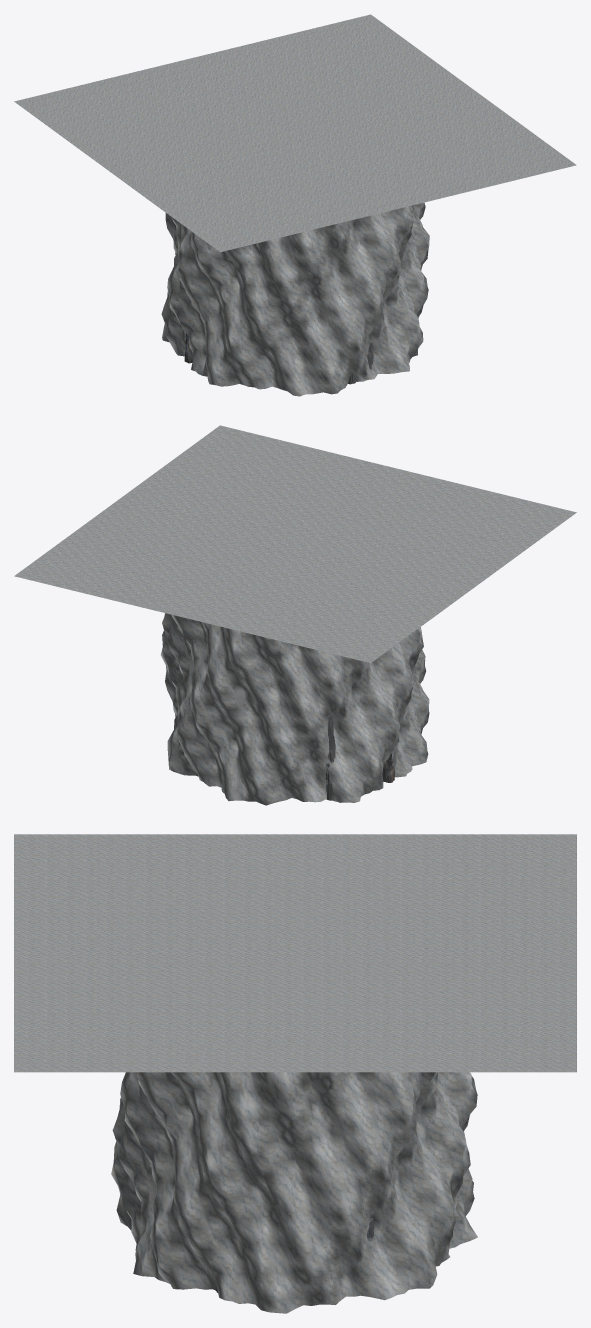
The model's file is room.glb.
The picture shows the model from 3 angles, top to bottom: view 1: azimuth 30°, elevation 25°; view 2: azimuth 150°, elevation 25°; view 3: azimuth 270°, elevation 25°; orthographic projection. The views are drawn at different scales.
Parts seen in each view (by area): view 1: VOLCANO-VIEW; view 2: VOLCANO-VIEW; view 3: VOLCANO-VIEW.
Part boxes in pixels (x1,y1,x2,y2): VOLCANO-VIEW: (14,14,576,396); VOLCANO-VIEW: (14,425,576,805); VOLCANO-VIEW: (14,834,576,1313).
Bounding box in the file's own units: 95.2 × 53 × 95.2.
1 material, 1 textured.
